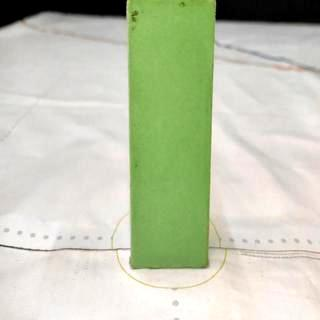greenbox: (124, 1, 216, 272)
